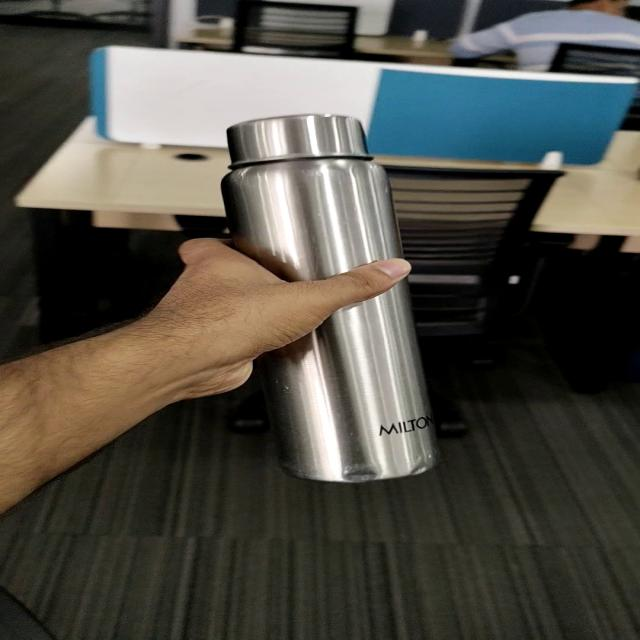bottle: (217, 112, 441, 483)
